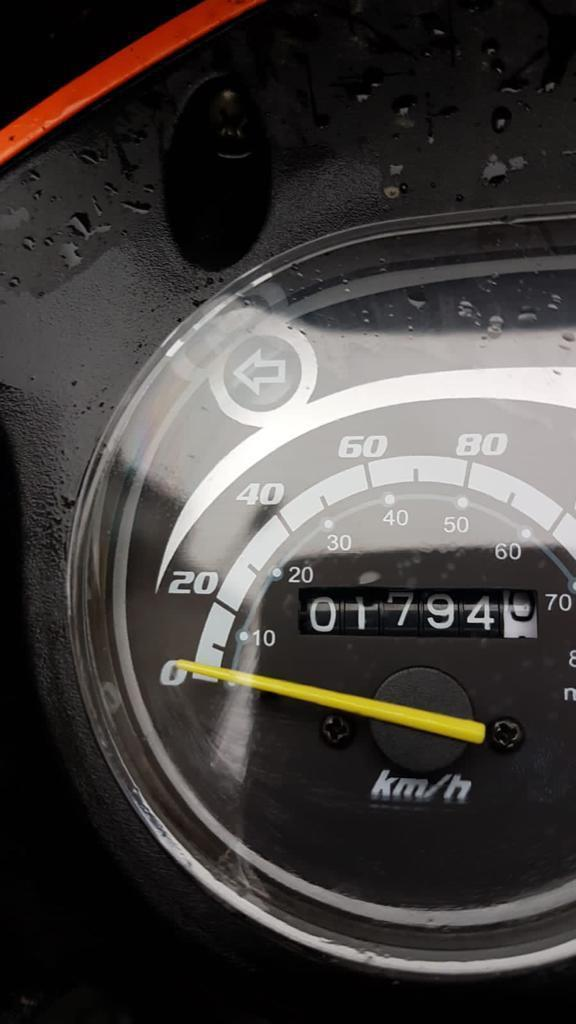0: (308, 593, 337, 636), (507, 589, 536, 625)
1: (352, 592, 372, 637)
4: (466, 592, 496, 638)
7: (386, 589, 414, 631)
9: (423, 592, 455, 637)
odometer: (293, 586, 545, 652)
